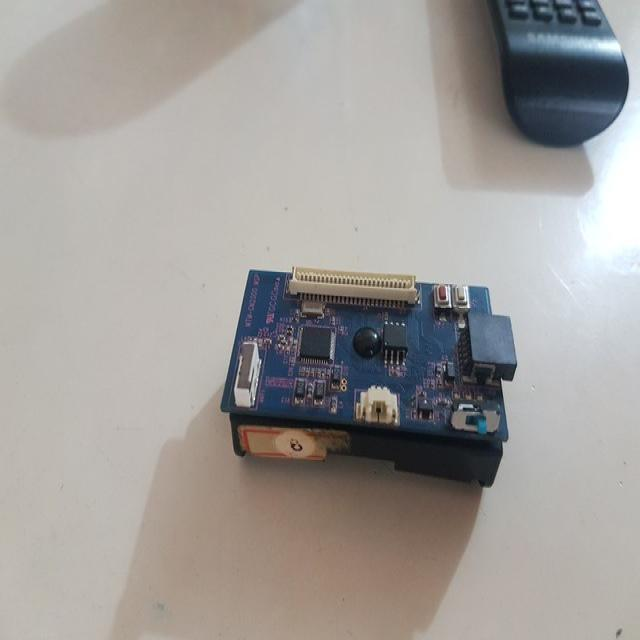TelosB: (221, 268, 517, 487)
